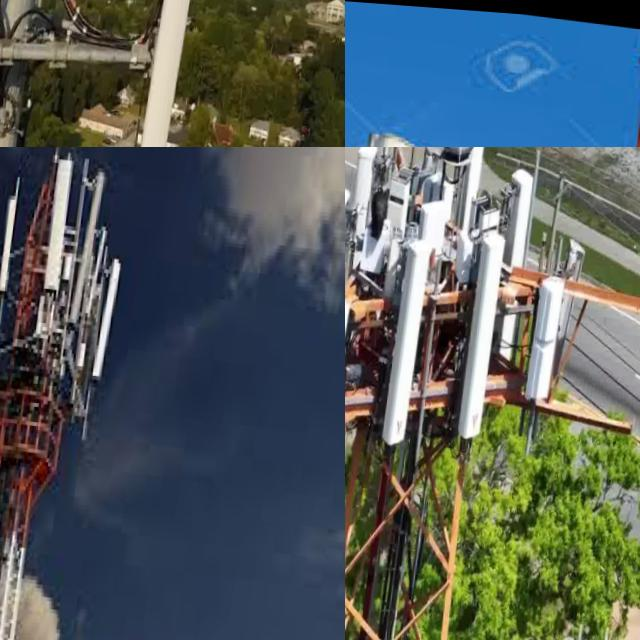GSM Antenna: (460, 217, 516, 447), (384, 230, 440, 449), (148, 0, 204, 147), (65, 161, 115, 323), (530, 262, 573, 405), (39, 147, 79, 287), (495, 153, 542, 272), (97, 250, 133, 381), (345, 147, 387, 247), (0, 184, 28, 293), (17, 0, 58, 44), (345, 290, 355, 439), (345, 179, 357, 298)
